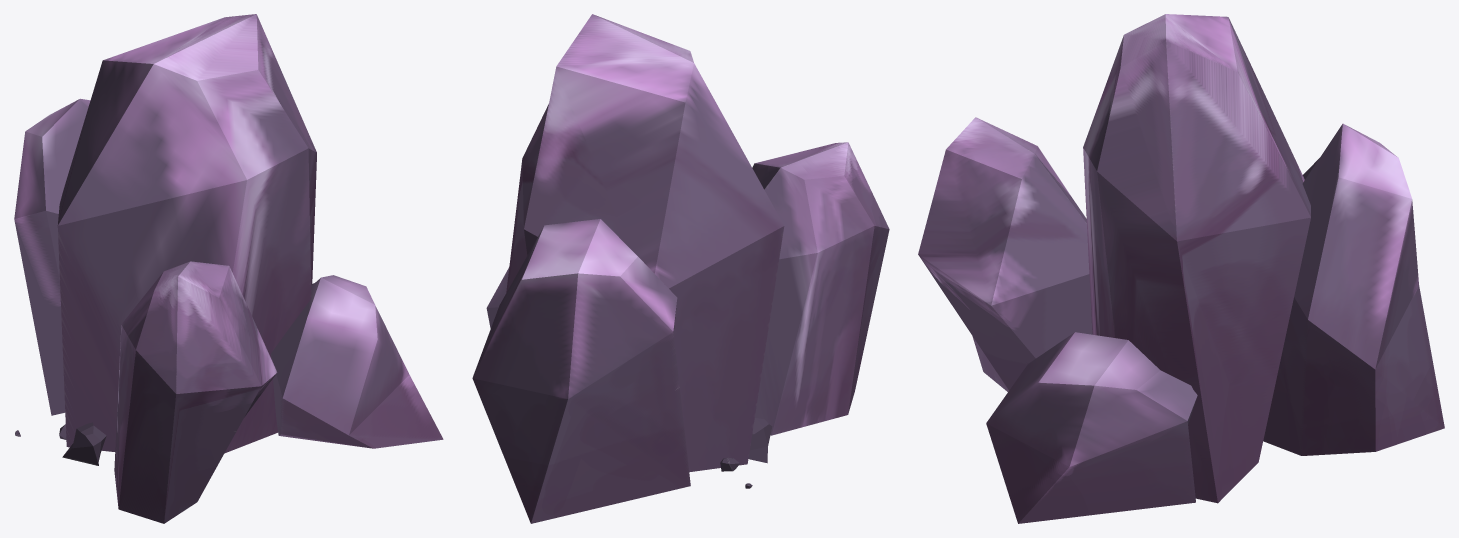
Rendered from Gemstone.fbx.
3 views of the same model, side by side, from view 1: azimuth 30°, elevation 25°; view 2: azimuth 150°, elevation 25°; view 3: azimuth 270°, elevation 25° (orthographic). The views are drawn at different scales.
Parts seen in each view (by area): view 1: Cube.002, Cube.005, Cube.004, Cube.003, Cube.006; view 2: Cube.002, Cube.003, Cube.005, Cube.006, Cube.004; view 3: Cube.002, Cube.003, Cube.005, Cube.004.
Boxes of the visible parts, x1,y1,x2,y2 form: Cube.002: (57,14,316,453); Cube.005: (114,261,277,523); Cube.004: (271,275,443,448); Cube.003: (14,98,90,415); Cube.006: (62,422,106,465); Cube.002: (506,14,784,472); Cube.003: (472,219,690,523); Cube.005: (752,142,889,435); Cube.006: (748,418,772,463); Cube.004: (486,267,509,328); Cube.002: (1083,14,1310,503); Cube.003: (1263,123,1444,455); Cube.005: (918,117,1092,391); Cube.004: (986,332,1197,523).
Size of the model in its own units: 83.52 by 101 by 113.
Materials: 1 (1 with a texture image).
